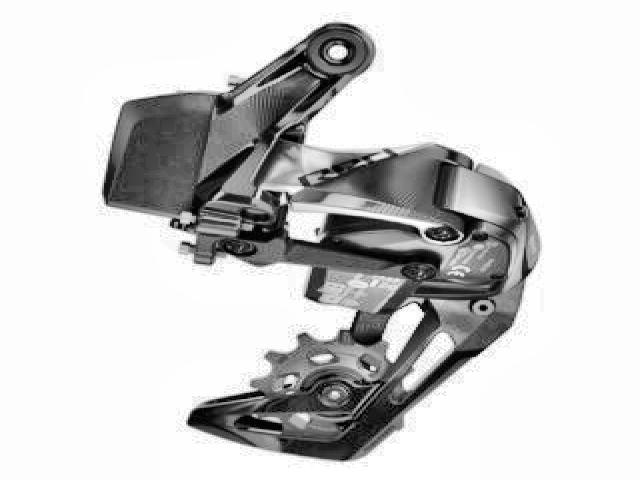rear_derailleur: (105, 18, 547, 466)
